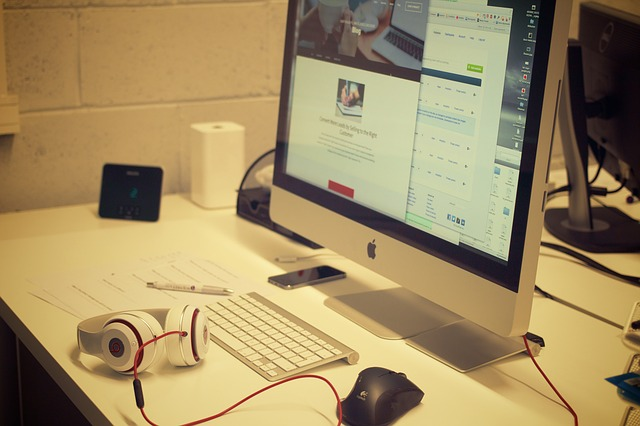headphones: (76, 305, 210, 376)
